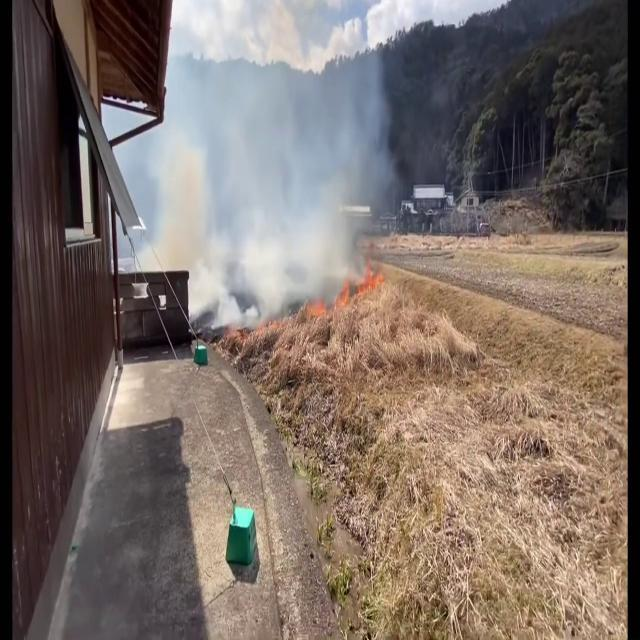Smoke: (151, 8, 401, 298)
